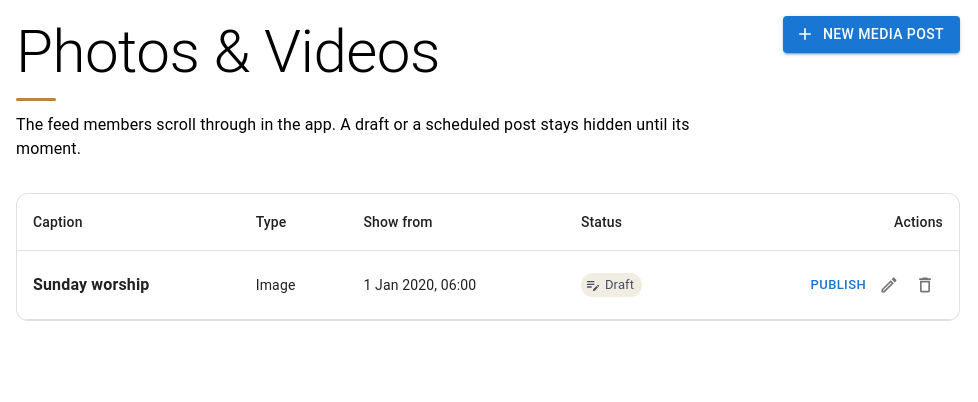
managing posts › says so when an action fails, rather than appearing to work
Click the button with test id "media-toggle-m1" at (838, 285), box x1=806 y1=270 x2=871 y2=300
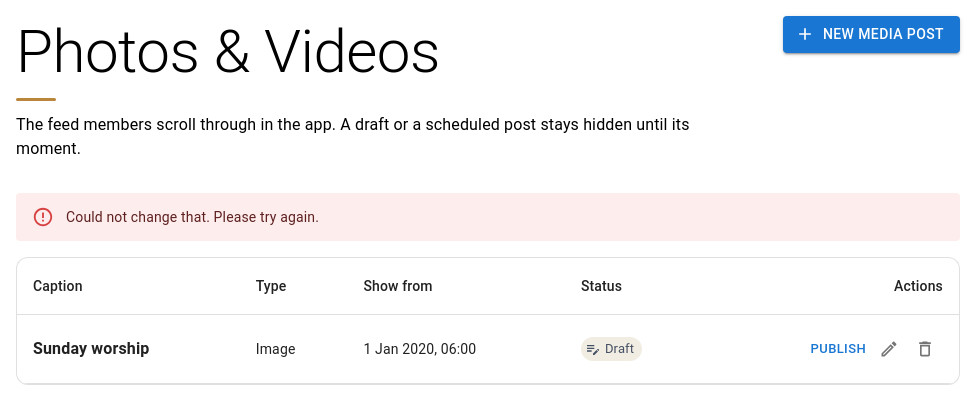
expect the message "Could not change that. Please try again." is shown: met, box x1=16 y1=193 x2=960 y2=241
